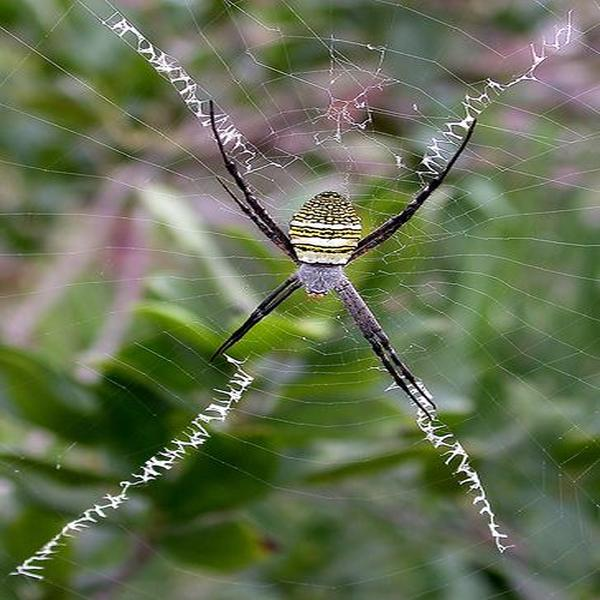St Andrew's Cross Spider: (206, 99, 477, 420)
